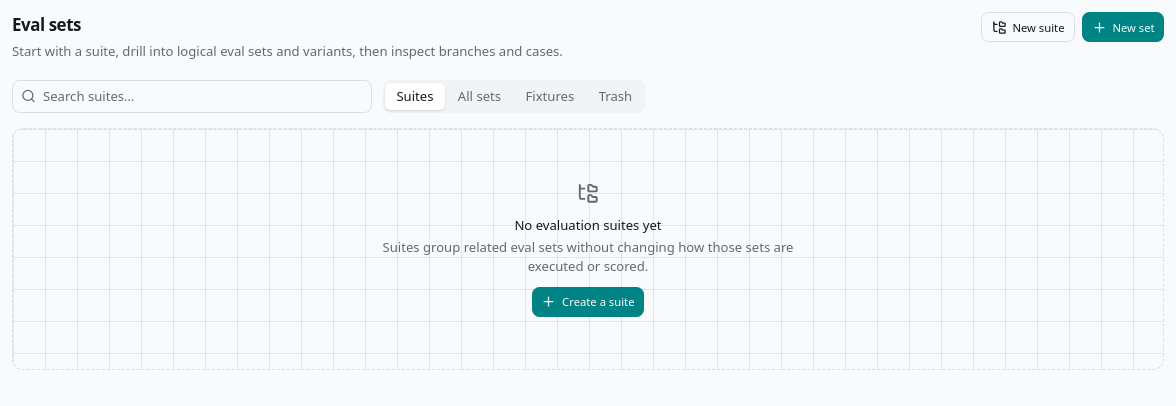
Test: SetsPage › teaches what a set is when there are none
The image size is (1176, 406).
Step 1. Click the tab "All sets" → (480, 96), box [447, 83, 512, 110]
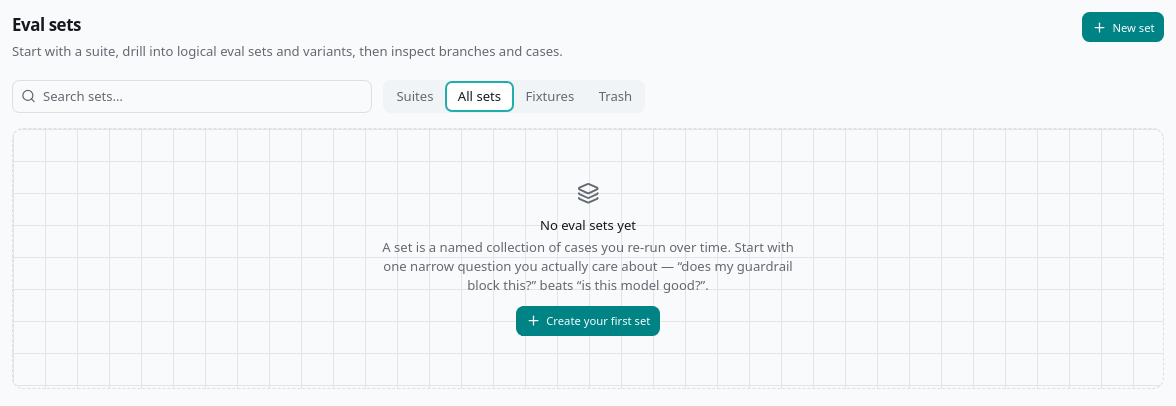
expect the text "No eval sets yet" is shown: met, box [540, 216, 636, 234]
expect the button "Create your first set" is shown: met, box [516, 306, 660, 336]
